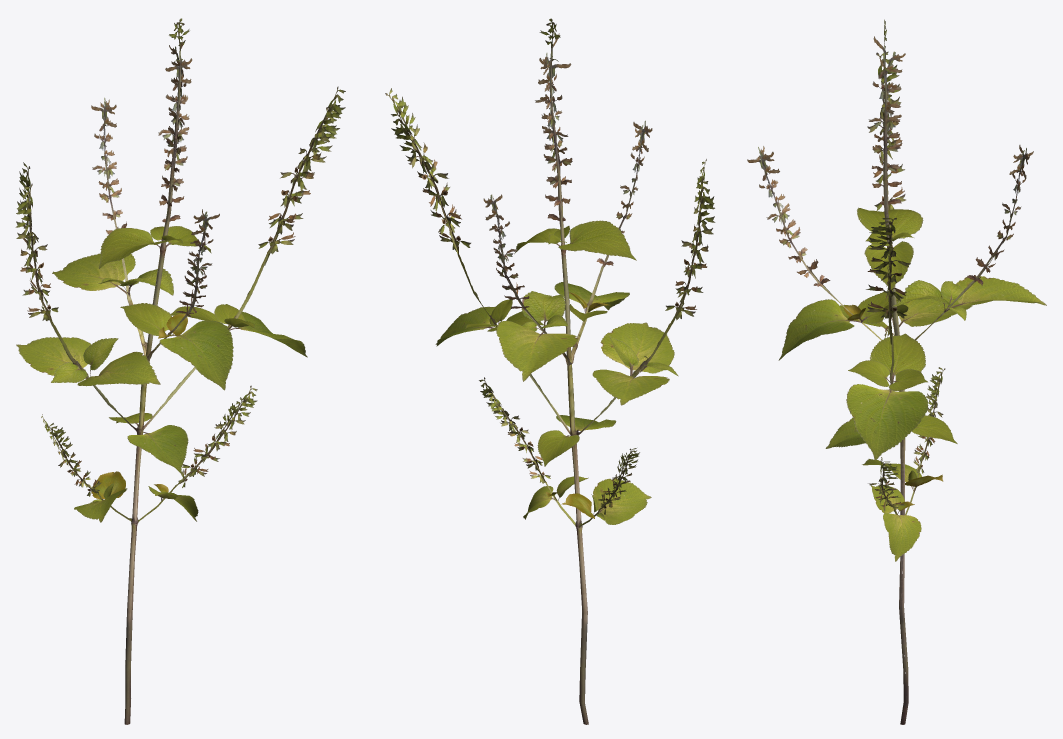
File: shrub_03_a.gltf
The picture shows the model from 3 angles, left to right: view 1: azimuth 30°, elevation 25°; view 2: azimuth 150°, elevation 25°; view 3: azimuth 270°, elevation 25°; orthographic projection. The views are drawn at different scales.
Visible parts, largest first — view 1: shrub_03_a; view 2: shrub_03_a; view 3: shrub_03_a.
Part boxes in pixels (x1,y1,x2,y2): shrub_03_a: [15, 18, 345, 724]; shrub_03_a: [385, 18, 715, 724]; shrub_03_a: [747, 19, 1046, 724].
Bounding box in the file's own units: 0.2006 × 0.4028 × 0.1512.
Materials: 1 (1 with a texture image).
